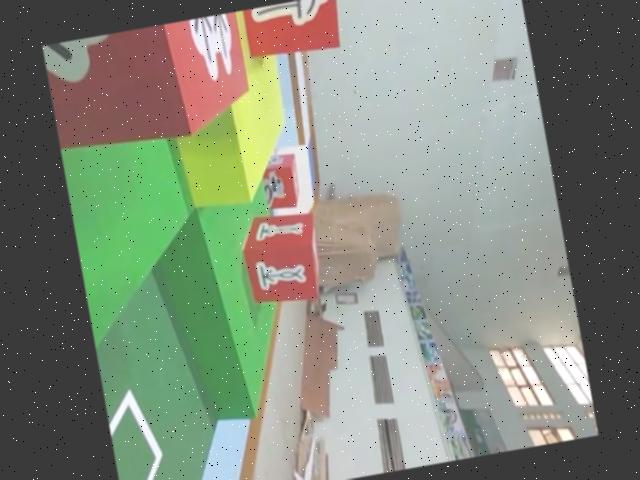R1: (251, 150, 304, 214)
R2 Fake: (243, 0, 352, 63)
R2 Real: (42, 11, 259, 158), (231, 209, 326, 309)
